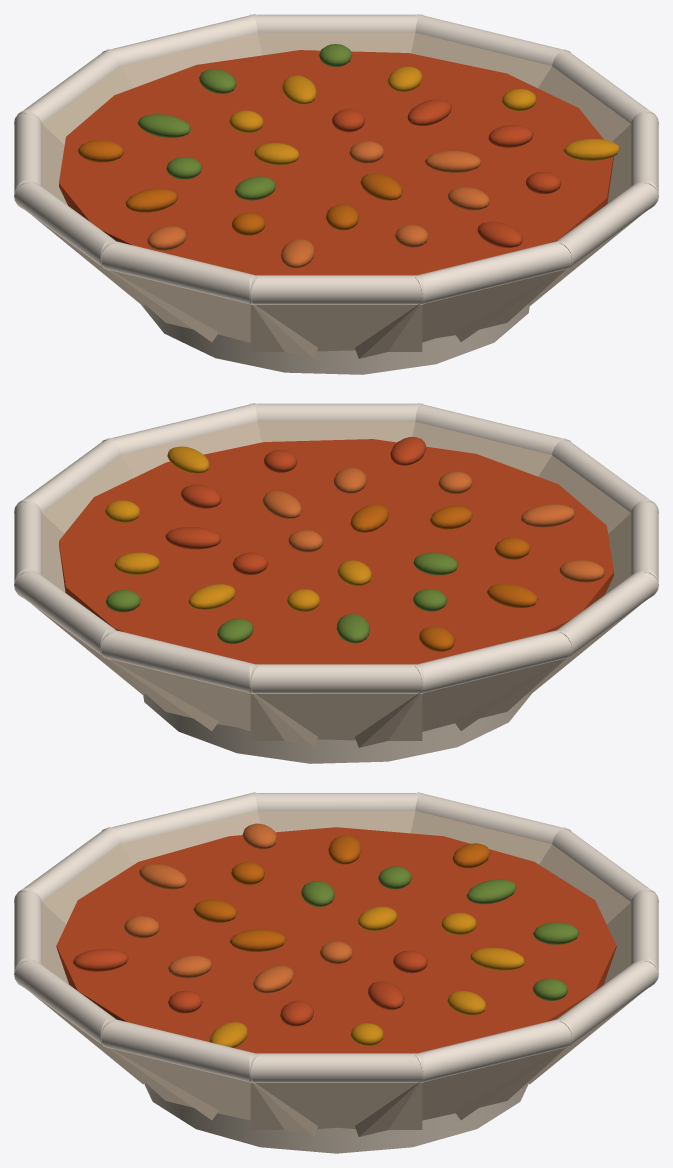
File: CMU3DFoodSoupBisqueCloud.glb
3 views of the same model, one above another, from view 1: azimuth 30°, elevation 25°; view 2: azimuth 150°, elevation 25°; view 3: azimuth 270°, elevation 25° (orthographic).
Visible parts, largest first — view 1: bisque liquid surface, closed ceramic basin floor, flared hollow ceramic wall 09, rolled ceramic rim 09, flared hollow ceramic wall 08, flared hollow ceramic wall 10, rolled ceramic rim 08, rolled ceramic rim 10, rolled ceramic rim 07, rolled ceramic rim 11, rolled ceramic rim 03, flared hollow ceramic wall 03 (+41 smaller); view 2: bisque liquid surface, closed ceramic basin floor, flared hollow ceramic wall 05, rolled ceramic rim 05, flared hollow ceramic wall 06, flared hollow ceramic wall 04, rolled ceramic rim 04, rolled ceramic rim 06, rolled ceramic rim 03, rolled ceramic rim 07, rolled ceramic rim 11, flared hollow ceramic wall 11 (+41 smaller); view 3: bisque liquid surface, closed ceramic basin floor, flared hollow ceramic wall 01, rolled ceramic rim 01, flared hollow ceramic wall 02, flared hollow ceramic wall 12, rolled ceramic rim 02, rolled ceramic rim 12, rolled ceramic rim 03, rolled ceramic rim 11, flared hollow ceramic wall 07, rolled ceramic rim 07 (+41 smaller).
Boxes of the visible parts, x1,y1,x2,y2 form: bisque liquid surface: (59,50,613,275); closed ceramic basin floor: (141,304,529,374); flared hollow ceramic wall 09: (250,305,422,351); rolled ceramic rim 09: (249,275,423,304); flared hollow ceramic wall 08: (107,270,317,358); flared hollow ceramic wall 10: (355,270,565,358); rolled ceramic rim 08: (100,240,257,305); rolled ceramic rim 10: (415,240,572,305); rolled ceramic rim 07: (14,179,115,270); rolled ceramic rim 11: (557,179,658,270); rolled ceramic rim 03: (249,14,423,32); flared hollow ceramic wall 03: (257,32,415,55); bisque liquid surface: (59,439,613,664); closed ceramic basin floor: (143,693,531,763); flared hollow ceramic wall 05: (250,694,422,740); rolled ceramic rim 05: (249,664,423,693); flared hollow ceramic wall 06: (355,659,565,747); flared hollow ceramic wall 04: (107,659,317,747); rolled ceramic rim 04: (100,629,257,694); rolled ceramic rim 06: (415,629,572,694); rolled ceramic rim 03: (14,568,115,659); rolled ceramic rim 07: (557,568,658,659); rolled ceramic rim 11: (249,403,423,421); flared hollow ceramic wall 11: (257,421,415,442); bisque liquid surface: (56,827,616,1053); closed ceramic basin floor: (144,1082,528,1153); flared hollow ceramic wall 01: (250,1083,422,1129); rolled ceramic rim 01: (249,1053,423,1082); flared hollow ceramic wall 02: (355,1048,565,1136); flared hollow ceramic wall 12: (107,1048,317,1136); rolled ceramic rim 02: (415,1018,572,1083); rolled ceramic rim 12: (100,1018,257,1083); rolled ceramic rim 03: (557,957,658,1048); rolled ceramic rim 11: (14,957,115,1048); flared hollow ceramic wall 07: (257,811,415,833); rolled ceramic rim 07: (249,793,423,810).
Size of the model in its own units: 0.7325 by 0.2 by 0.7325.
